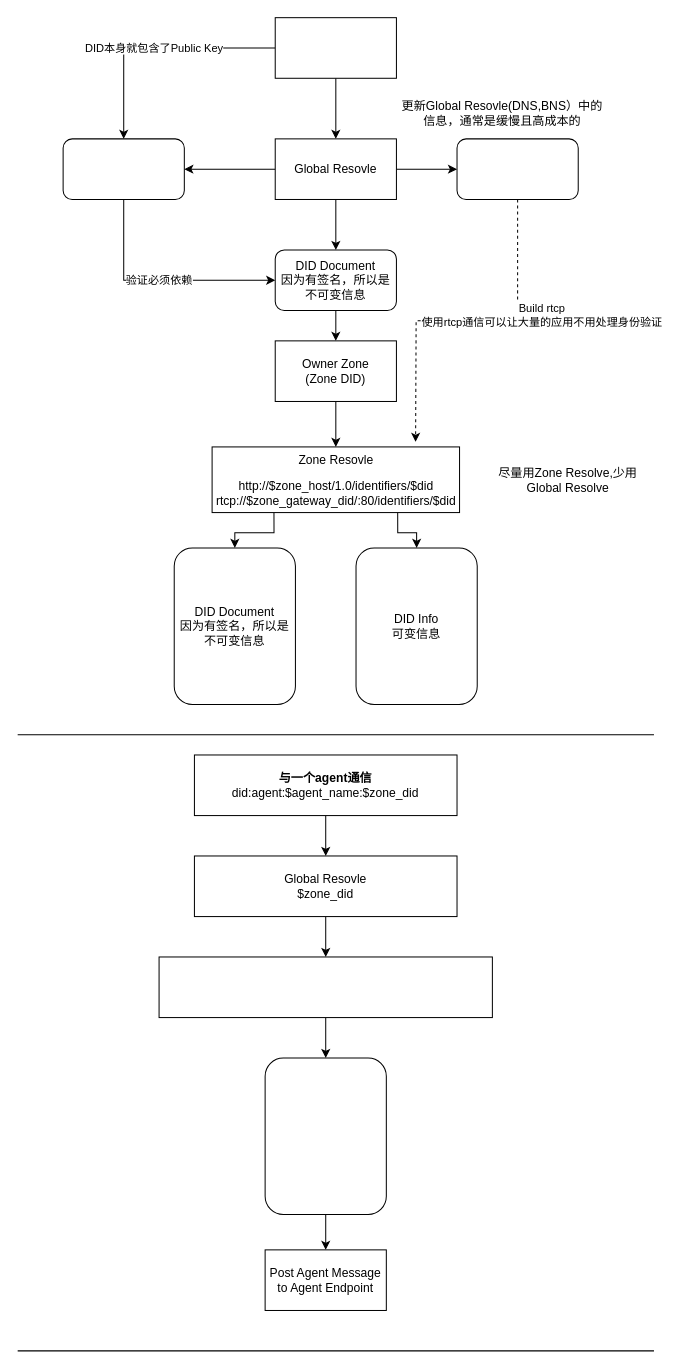
This 680x1370 diagram has some shape labels left out. The box of each missing label's shape, as (x1, y1, x2, y2) in pixels:
Agent Document: (264, 1057, 386, 1215)
DID: (274, 17, 396, 78)
DID Public Key (用于验证 DID的签名): (62, 138, 184, 199)
Zone Resovle http://$zone_host/1.0/identifiers/did:agent:$agent_name: (158, 956, 492, 1018)
ZoneGateway Device DID: (456, 138, 578, 199)
